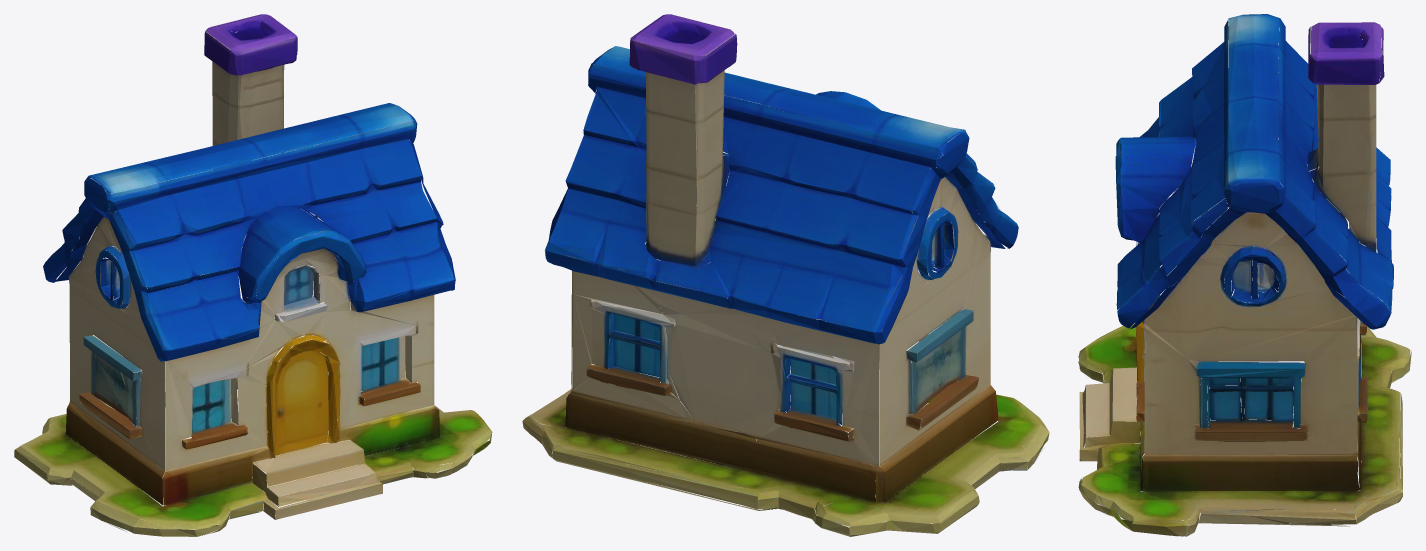
The model's file is blue_blue_roof_building.glb.
3 views of the same model, side by side, from view 1: azimuth 30°, elevation 25°; view 2: azimuth 150°, elevation 25°; view 3: azimuth 270°, elevation 25° (orthographic). The views are drawn at different scales.
Visible parts, largest first — view 1: geometry_0; view 2: geometry_0; view 3: geometry_0.
Part boxes in pixels (x1,y1,x2,y2): geometry_0: (14, 14, 492, 536); geometry_0: (522, 14, 1049, 536); geometry_0: (1078, 14, 1411, 536).
Bounding box in the file's own units: 1 × 0.9423 × 0.6812.
Materials: 1 (1 with a texture image).
